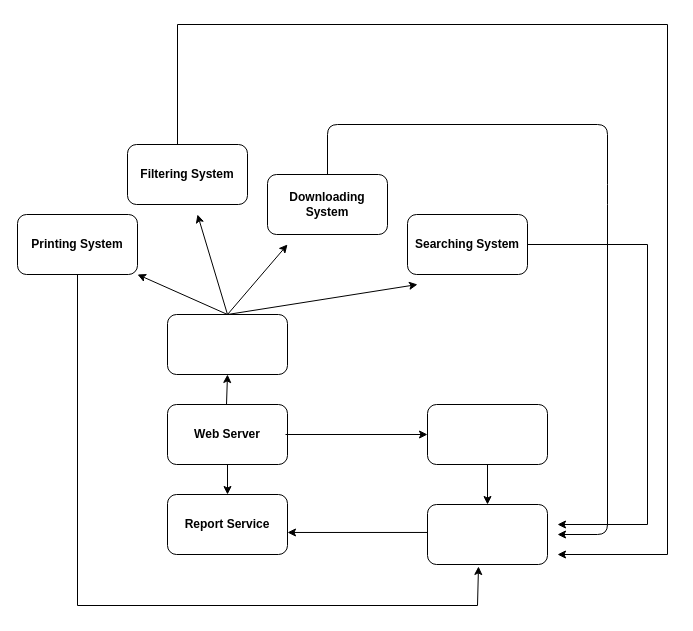
Image size: 693x631. Some labels were removed from this diagram. Each missing label, with the centre of its shape:
"Database Management System" belongs at (x=487, y=534).
"Delivery System" belongs at (x=487, y=434).
"Visual Interface" belongs at (x=227, y=344).
